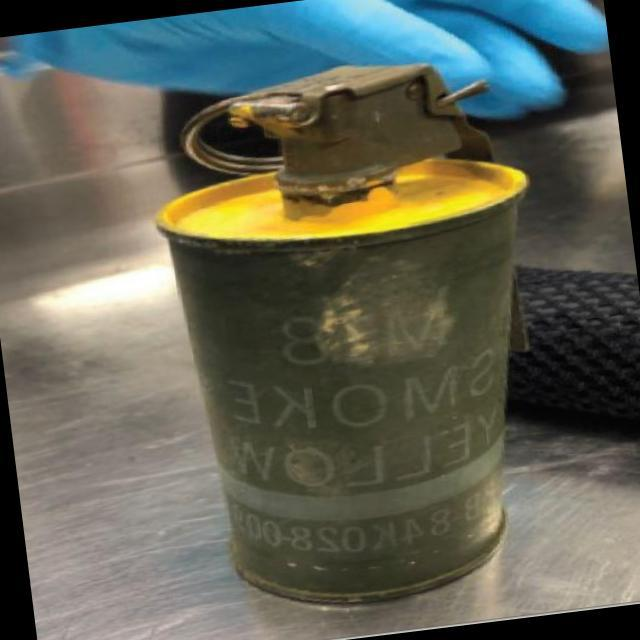grenade: (124, 47, 614, 636)
